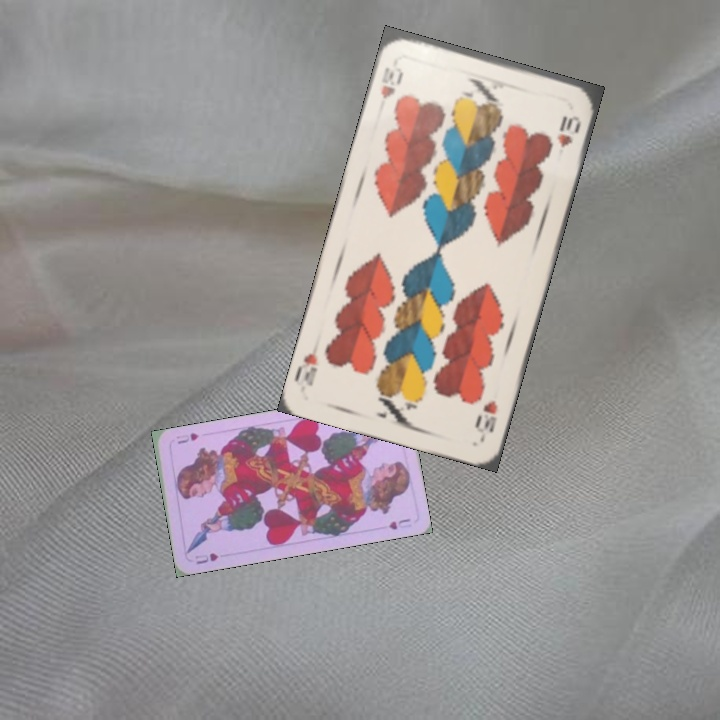H10: (376, 54, 406, 101), (472, 396, 500, 441)
HU: (191, 549, 221, 567)
